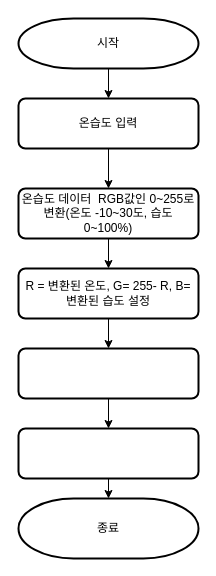
Image size: 216x576. Some labels were removed from this diagram. Here are the shapes that lost their labels. From the top down, the box of each, then its label:
(17, 347, 199, 399): RGB값에 맞게 LED On
(17, 427, 199, 479): delay(1000)
